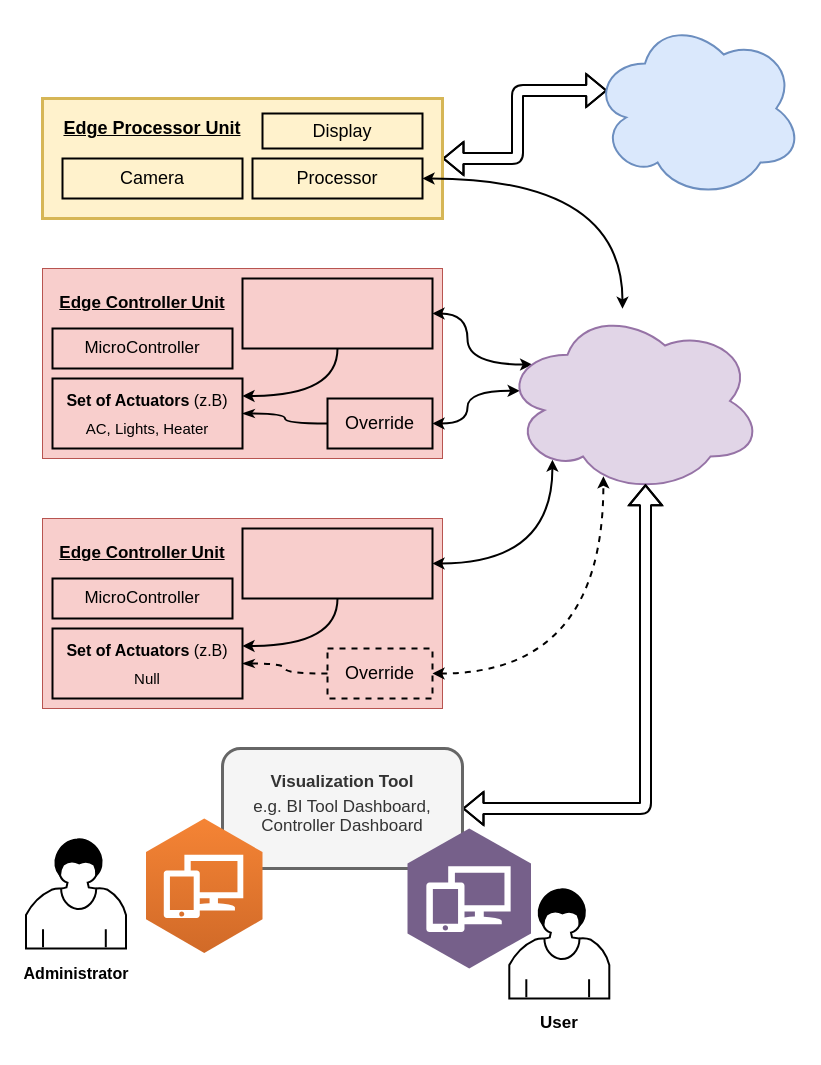
The diagram is 821 pixels wide and 1065 high, and some of its shapes have lost their labels. Here are the shapes that lost their labels. From the top down, the centre of each, then its label:
At point 697,108: "Weather API".
At point 337,313: "Set of Sensors (z.B) Luminosity, Temperature".
At point 632,400: "Pub Sub Communication".
At point 337,563: "Set of Sensors (z.B) Limit Switch, Humidity".
